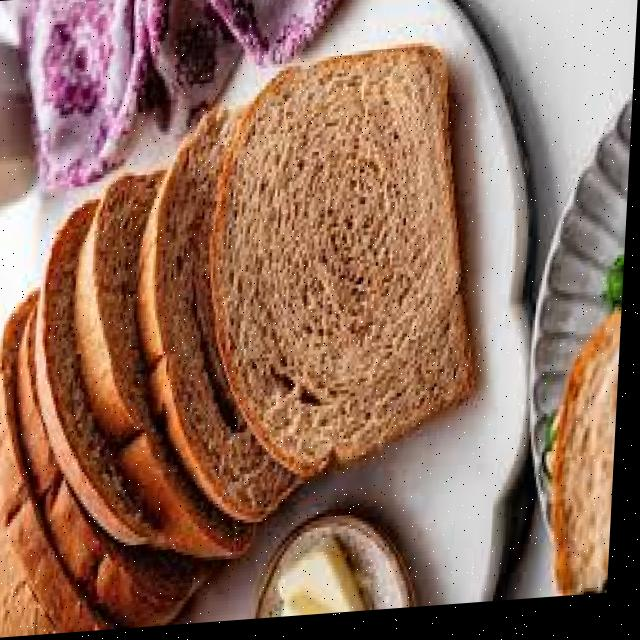Bread: (216, 53, 480, 480), (140, 115, 304, 524), (41, 203, 161, 548), (80, 176, 165, 445), (557, 321, 625, 605)
